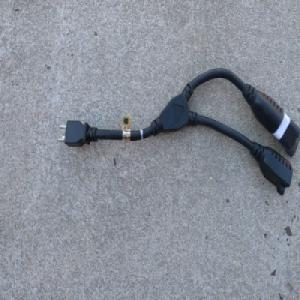Wire: (56, 66, 300, 196)
